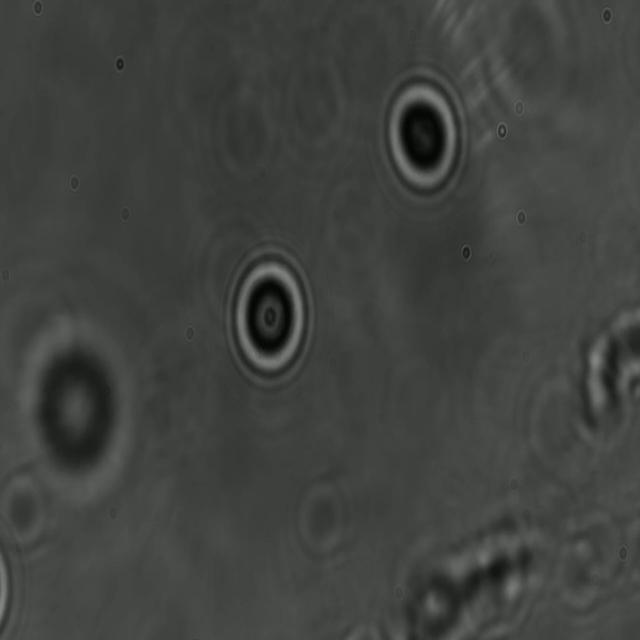LCELL: (221, 240, 316, 395)
